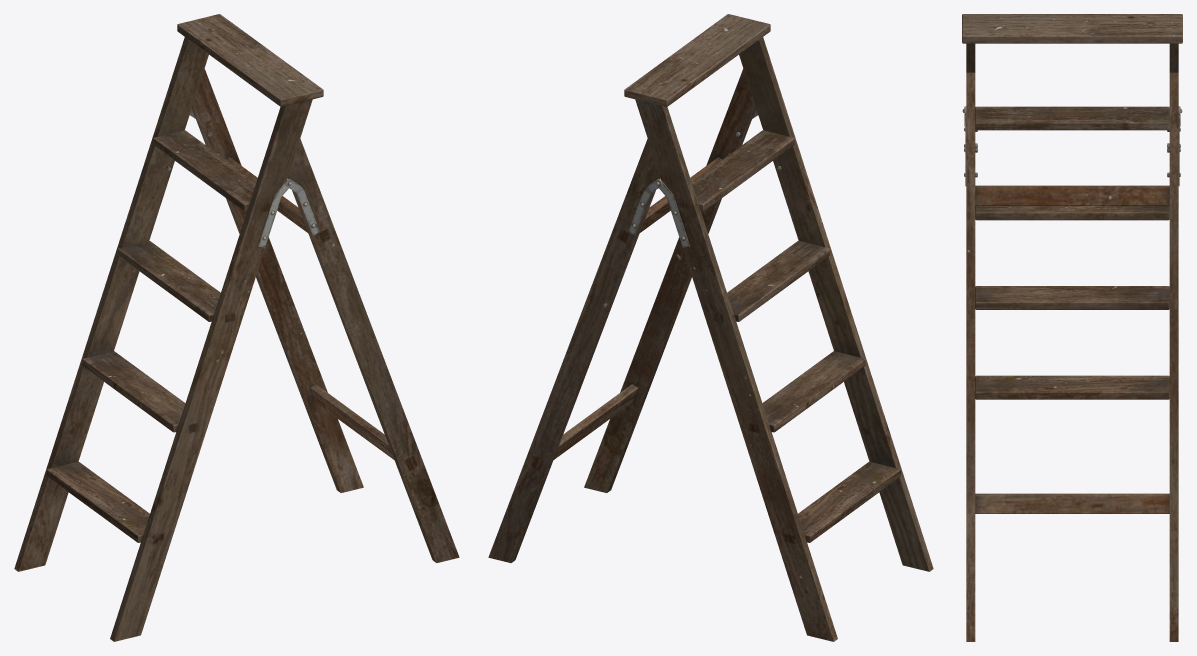
Rendered from wooden_ladder.glb.
3 renders of one model, left to right at view 1: azimuth 30°, elevation 25°; view 2: azimuth 150°, elevation 25°; view 3: azimuth 270°, elevation 25°, orthographic. The views are drawn at different scales.
Visible parts, largest first — view 1: wooden_ladder_steps, wooden_ladder_supports; view 2: wooden_ladder_steps, wooden_ladder_supports; view 3: wooden_ladder_steps, wooden_ladder_supports.
Boxes of the visible parts, x1,y1,x2,y2 form: wooden_ladder_steps: (14,14,323,641); wooden_ladder_supports: (189,68,459,562); wooden_ladder_steps: (624,14,933,641); wooden_ladder_supports: (488,68,758,562); wooden_ladder_steps: (962,14,1182,399); wooden_ladder_supports: (962,72,1182,641).
Bounding box in the file's own units: 0.9592 × 1.33 × 0.5.
1 material, 1 textured.
